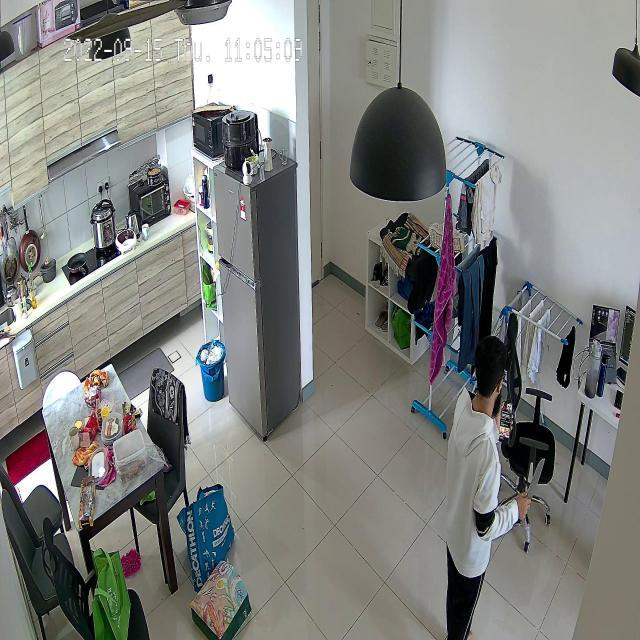Knife: (523, 450, 554, 508)
